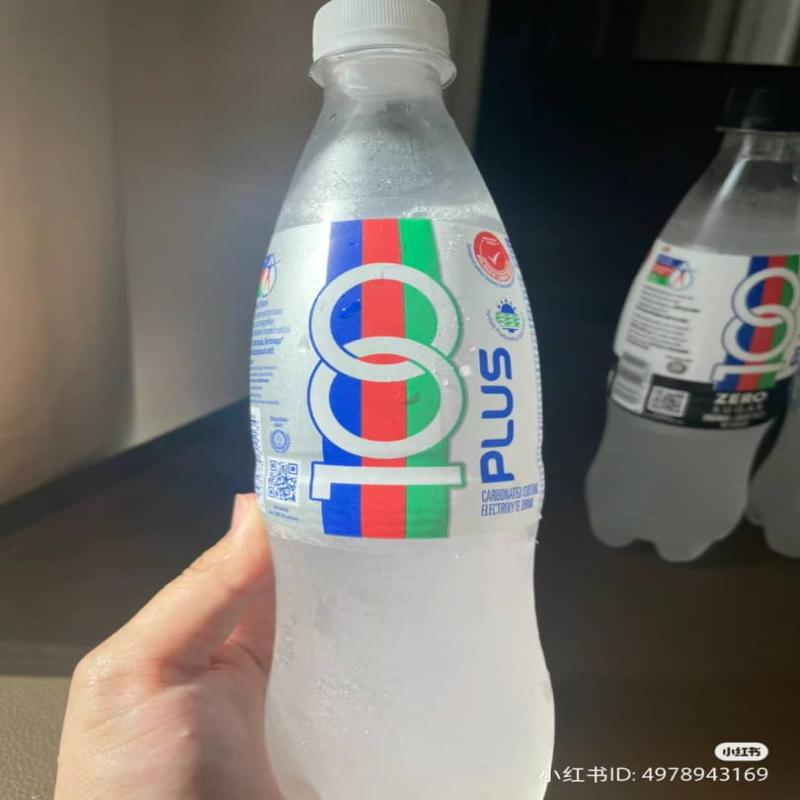botella: (244, 0, 564, 800), (591, 83, 797, 562)
